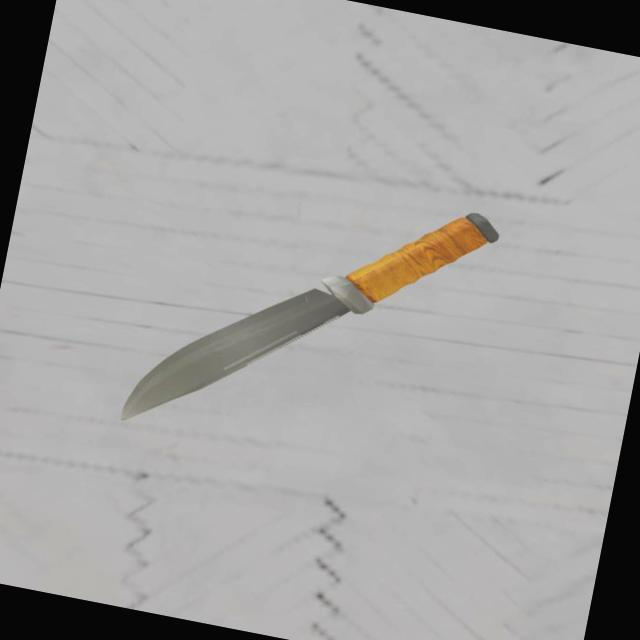knife: (332, 194, 502, 330)
